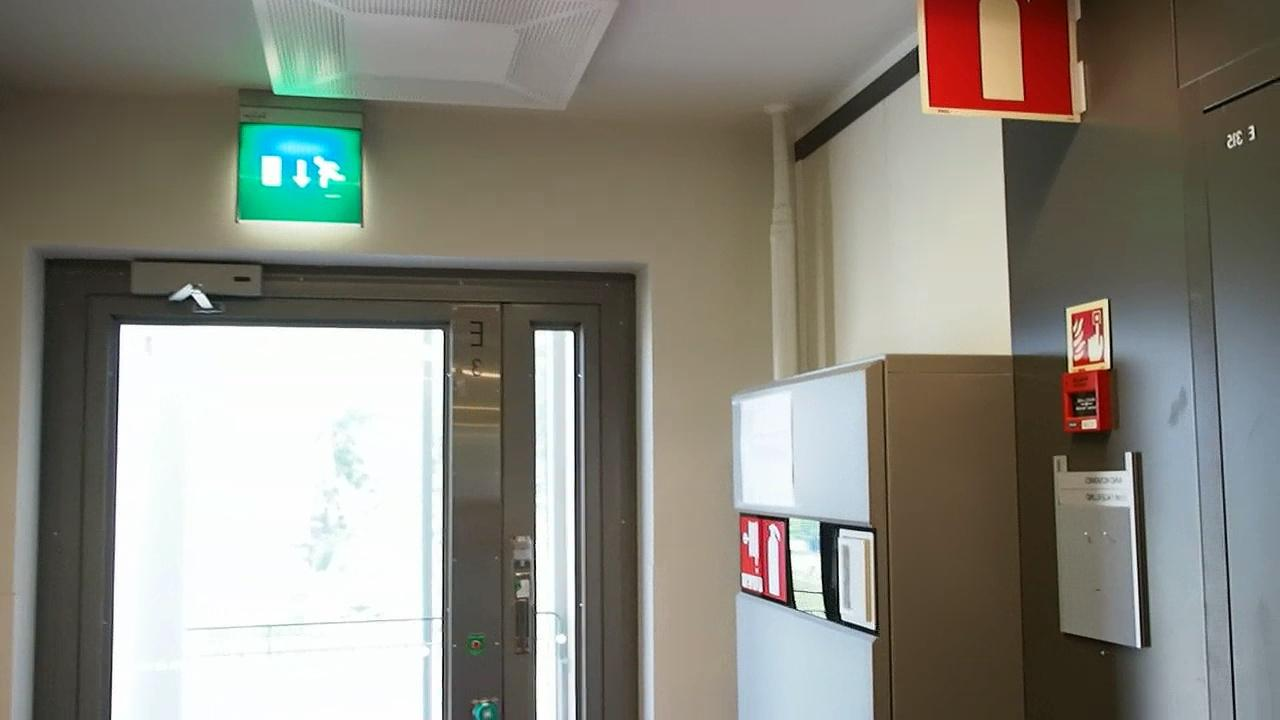exit: (229, 117, 365, 229)
fireextinguisher: (931, 18, 1076, 115)
